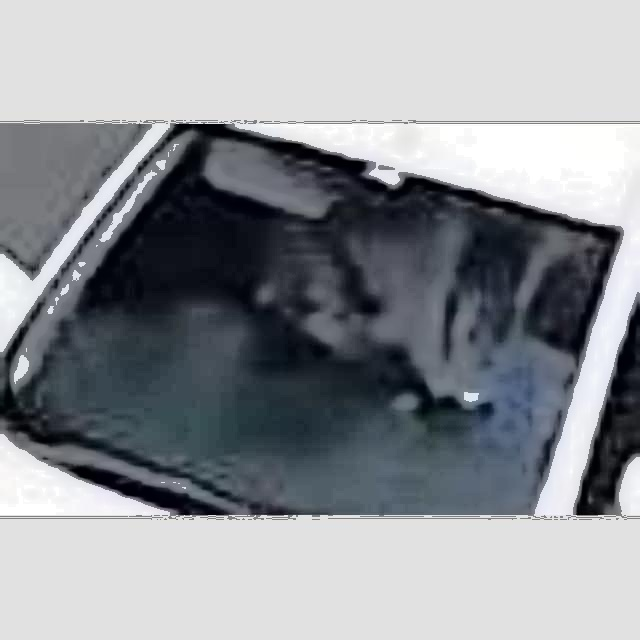pakai: (255, 195, 444, 361)
